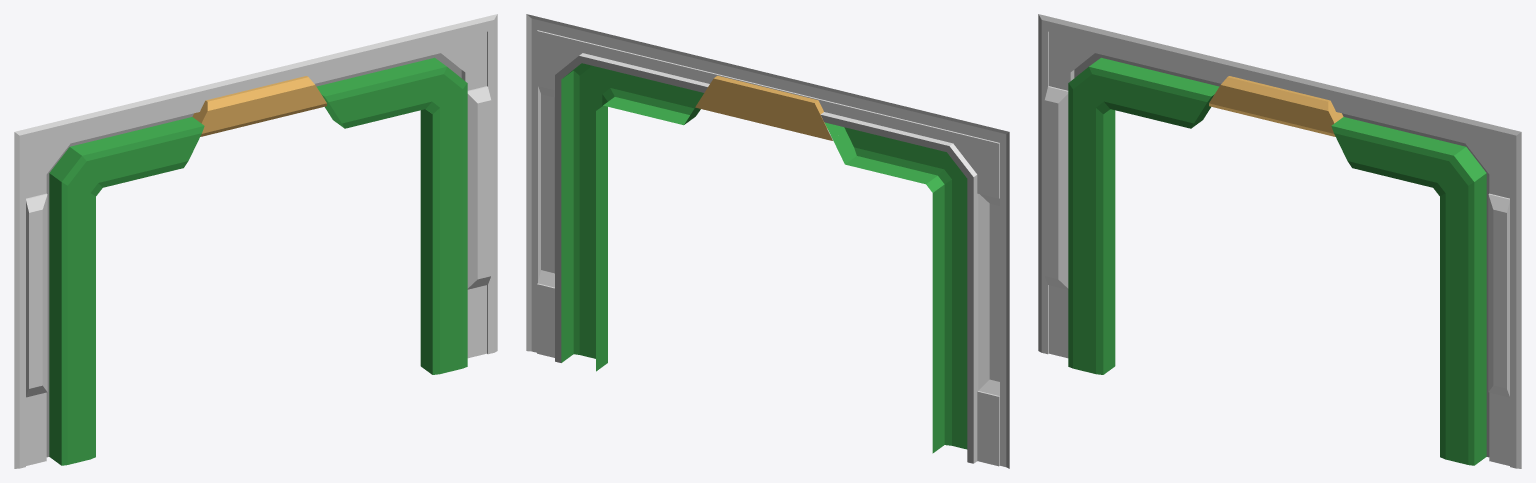
The model's file is SM_Wall_Door_A.fbx.
The picture shows the model from 3 angles, left to right: view 1: azimuth 30°, elevation 25°; view 2: azimuth 150°, elevation 25°; view 3: azimuth 330°, elevation 25°; orthographic projection.
Parts seen in each view (by area): view 1: SM_Wall_Door_A; view 2: SM_Wall_Door_A; view 3: SM_Wall_Door_A.
Part boxes in pixels (left/top/right/bottom): SM_Wall_Door_A: left=14, top=14, right=497, bottom=468; SM_Wall_Door_A: left=526, top=14, right=1009, bottom=468; SM_Wall_Door_A: left=1038, top=14, right=1521, bottom=468.
Bounding box in the file's own units: 6 × 4 × 0.2835.
